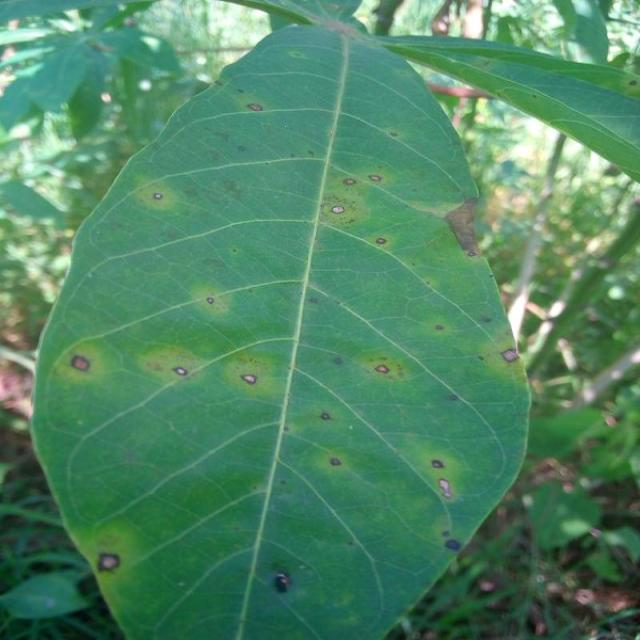cassava leaf: (28, 21, 532, 638)
